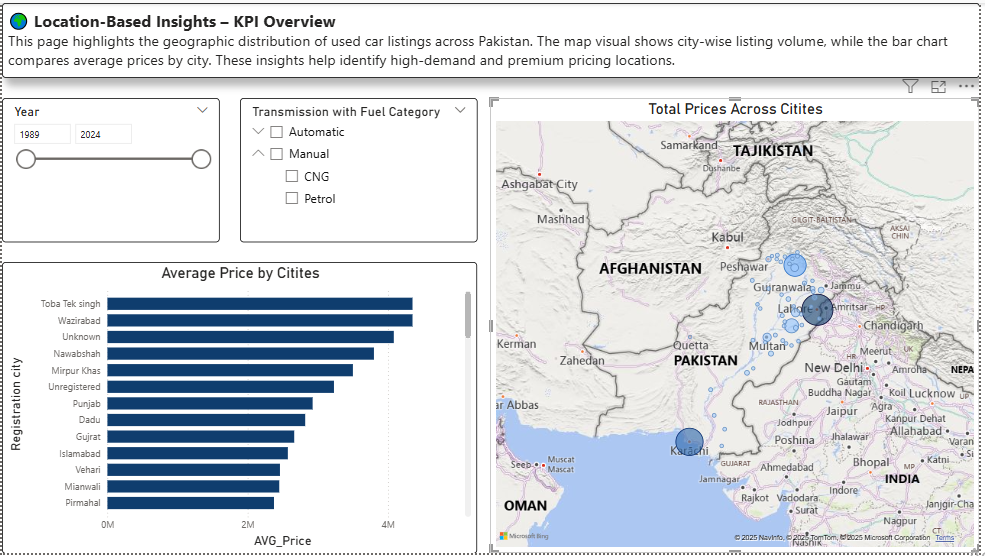

This screenshot's page, from the dashboard's own definition file:
{"tool":"powerbi","page":{"name":"Location Based Insights","canvas":[1280,720],"ordinal":3},"visuals":[{"type":"map","title":"Total Prices Across Citites","fields":{"Category":["OLX_cars_dataset00.Registration city"],"Size":["Sum(OLX_cars_dataset00.Price)"]},"box":[639.4,123.8,640.8,596.2],"z":0},{"type":"barChart","title":"Average Price by Citites","fields":{"Y":["OLX_cars_dataset00.AVG_Price"],"Category":["OLX_cars_dataset00.Registration city"]},"box":[0,338.4,622.1,381.6],"z":1000},{"type":"textbox","box":[0,0,1280.2,97.9],"z":2000},{"type":"slicer","fields":{"Values":["OLX_cars_dataset00.Transmission","OLX_cars_dataset00.Fuel"]},"box":[311,123.8,311,188.6],"z":2001},{"type":"slicer","fields":{"Values":["OLX_cars_dataset00.Year"]},"box":[0,123.8,285.1,188.6],"z":2002}]}

Visuals, with their boxes in screenshot pixels (x1, y1, x2, y2), scaled from the page's 1280x720 canvas onto the 985x556 screenshot:
"Total Prices Across Citites" map: detection(492, 96, 984, 555)
"Average Price by Citites" barChart: detection(0, 261, 479, 555)
textbox: detection(0, 0, 984, 76)
slicer - OLX_cars_dataset00.Transmission x OLX_cars_dataset00.Fuel: detection(239, 96, 479, 241)
slicer - OLX_cars_dataset00.Year: detection(0, 96, 219, 241)
